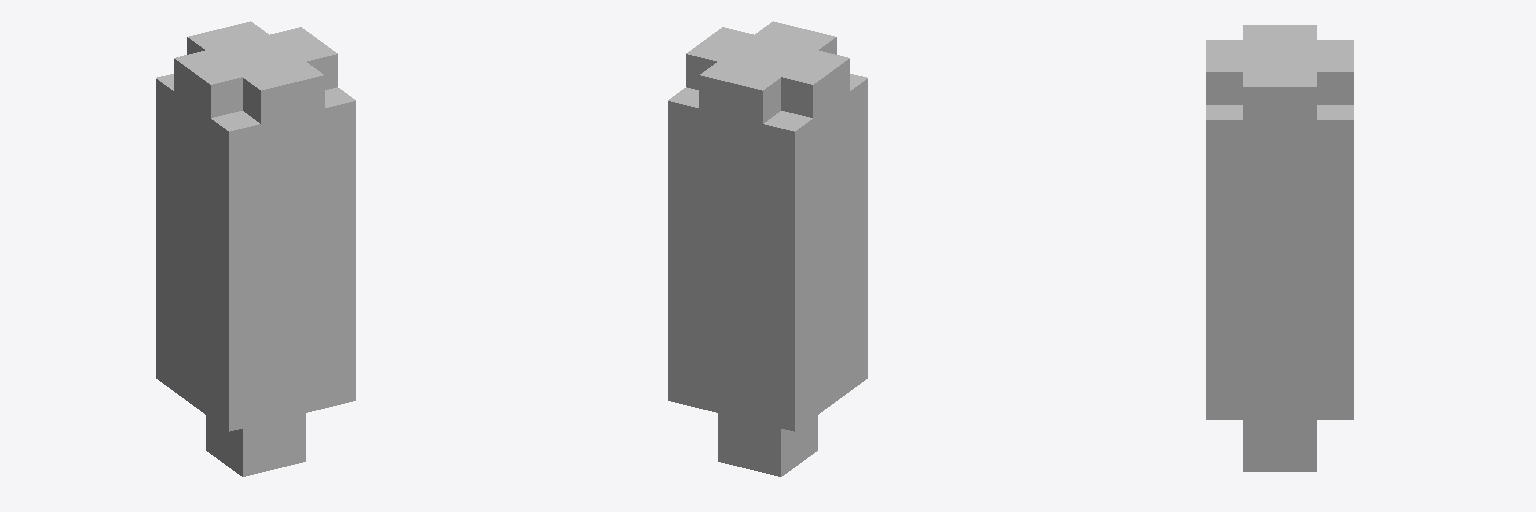
File: IceCreamPivotShit.obj
The picture shows the model from 3 angles: view 1: azimuth 30°, elevation 25°; view 2: azimuth 150°, elevation 25°; view 3: azimuth 270°, elevation 25°; orthographic projection.
Parts seen in each view (by area): view 1: object 1; view 2: object 1; view 3: object 1.
Boxes of the visible parts, x1,y1,x2,y2 form: object 1: [156, 21, 355, 476]; object 1: [668, 21, 867, 476]; object 1: [1206, 25, 1353, 471].
Bounding box in the file's own units: 0.4 × 1.2 × 0.4.